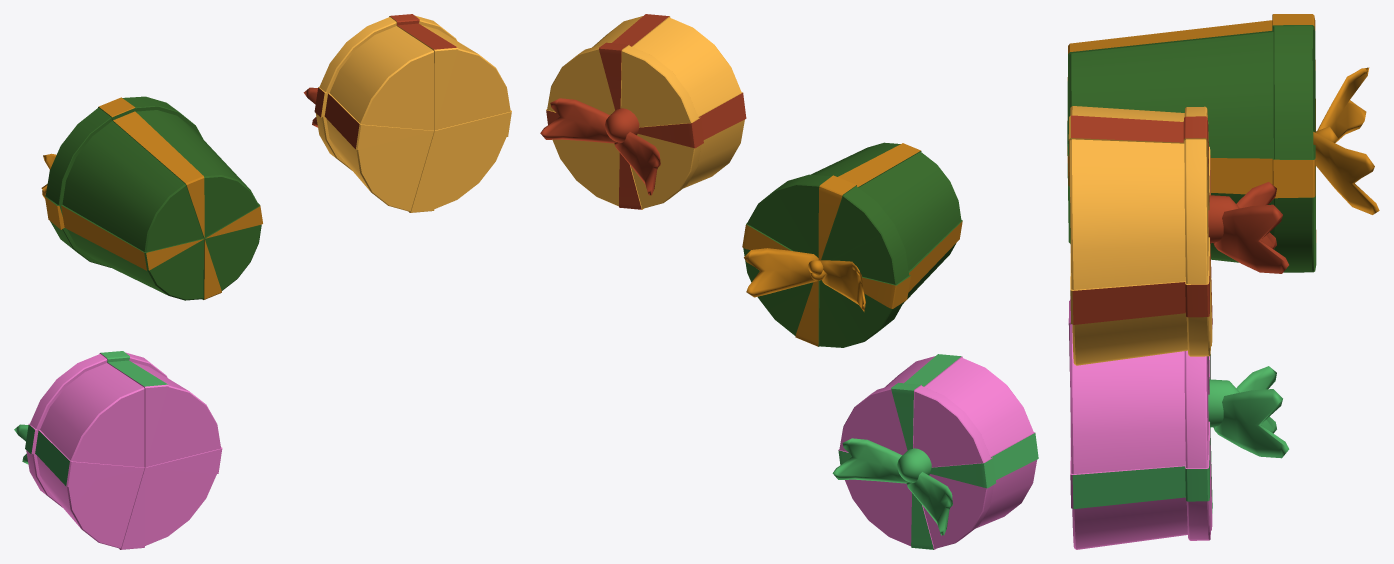
File: gifts.fbx
3 views of the same model, side by side, from view 1: azimuth 30°, elevation 25°; view 2: azimuth 150°, elevation 25°; view 3: azimuth 270°, elevation 25° (orthographic). The views are drawn at different scales.
Parts seen in each view (by area): view 1: pCylinder1.002; view 2: pCylinder1.002; view 3: pCylinder1.002.
Part boxes in pixels (x1,y1,x2,y2): pCylinder1.002: [14, 14, 511, 549]; pCylinder1.002: [540, 14, 1038, 549]; pCylinder1.002: [1067, 14, 1379, 549].
Size of the model in its own units: 1.04 by 0.9539 by 0.4269.
3 materials, 3 textured.
